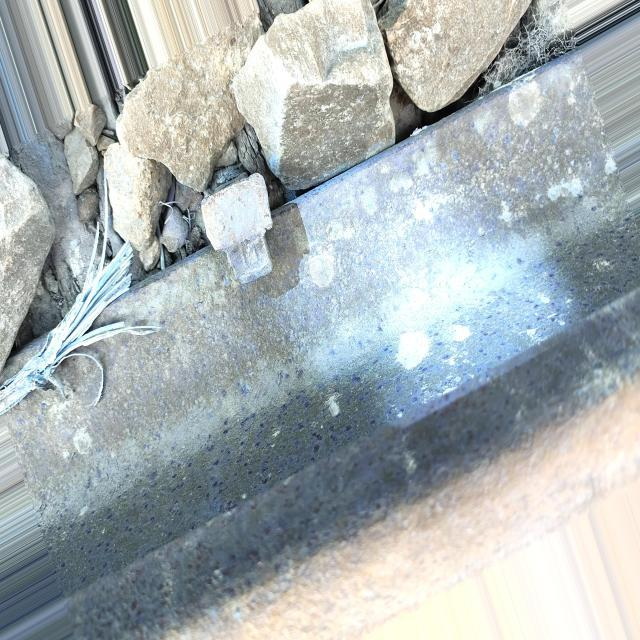Good Fasteners: (201, 174, 272, 283)
